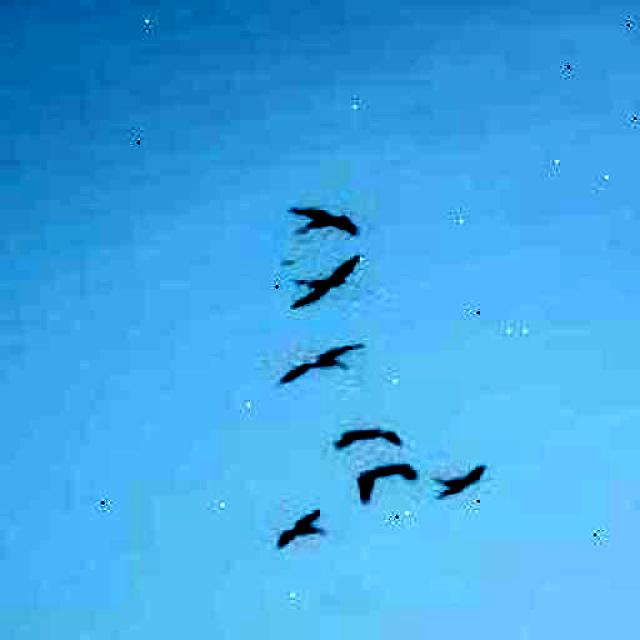airplane: (286, 252, 372, 309), (268, 344, 369, 390), (286, 195, 362, 245), (355, 459, 421, 505), (331, 421, 405, 459), (269, 508, 331, 550), (431, 464, 491, 500)
